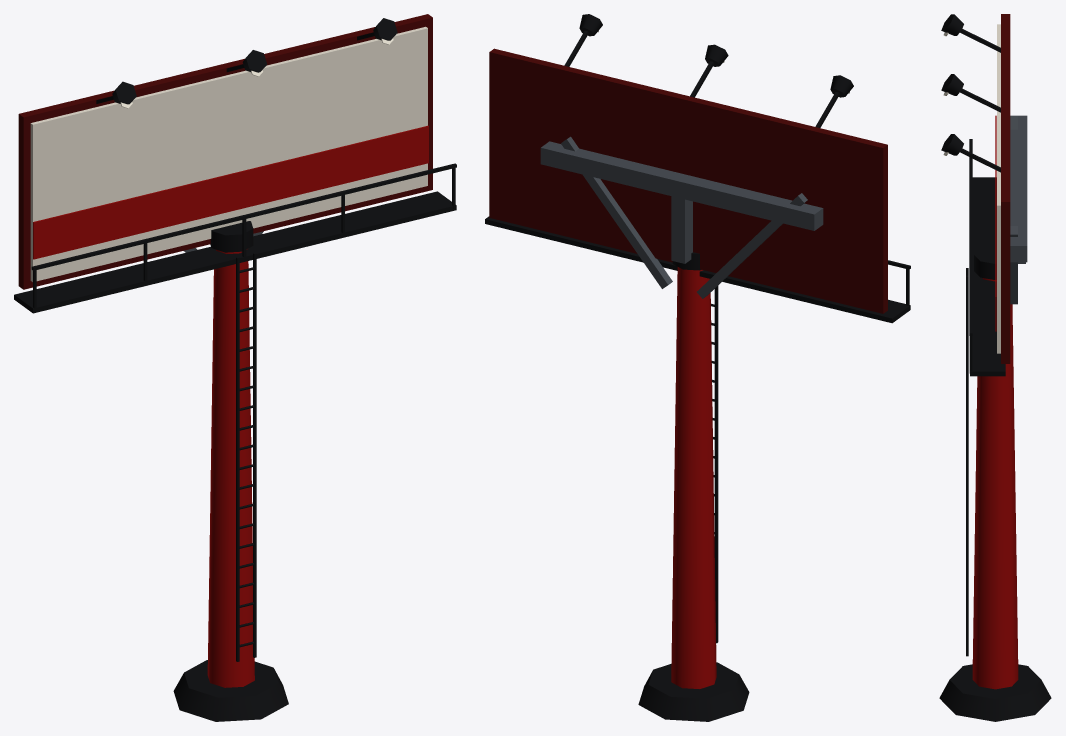
Rendered from billboard-tower.obj.
3 renders of one model, left to right at view 1: azimuth 30°, elevation 25°; view 2: azimuth 150°, elevation 25°; view 3: azimuth 270°, elevation 25°, orthographic. The views are drawn at different scales.
Visible parts, largest first — view 1: panel_face, pole, face_stripe, catwalk, panel_frame, footing, catwalk_rail, ladder_rail_l, ladder_rail_r, pole_collar; view 2: panel_frame, pole, support_beam, footing, catwalk, strut_r, ladder_rail_l, head_post, strut_l; view 3: pole, catwalk, footing, panel_frame, support_beam, panel_face, ladder_rail_r, catwalk_rail, pole_collar, strut_r, face_stripe, lamp_0 (+5 smaller).
Boxes of the visible parts, bbox=[...] form: panel_face: bbox=[30, 26, 427, 281]; pole: bbox=[207, 249, 254, 687]; face_stripe: bbox=[33, 125, 428, 259]; catwalk: bbox=[14, 191, 456, 313]; panel_frame: bbox=[18, 14, 432, 289]; footing: bbox=[173, 660, 288, 721]; catwalk_rail: bbox=[31, 163, 456, 270]; ladder_rail_l: bbox=[236, 257, 239, 661]; ladder_rail_r: bbox=[253, 252, 256, 657]; pole_collar: bbox=[210, 221, 253, 252]; panel_frame: bbox=[489, 48, 887, 313]; pole: bbox=[671, 267, 716, 688]; support_beam: bbox=[540, 141, 823, 230]; footing: bbox=[638, 662, 749, 721]; catwalk: bbox=[485, 216, 910, 323]; strut_r: bbox=[561, 136, 672, 288]; ladder_rail_l: bbox=[714, 285, 718, 643]; head_post: bbox=[671, 196, 692, 263]; strut_l: bbox=[697, 193, 807, 298]; pole: bbox=[972, 278, 1018, 689]; catwalk: bbox=[970, 177, 1005, 376]; footing: bbox=[939, 664, 1051, 721]; panel_frame: bbox=[1001, 14, 1010, 363]; support_beam: bbox=[1010, 115, 1027, 262]; panel_face: bbox=[997, 24, 1000, 353]; ladder_rail_r: bbox=[966, 275, 968, 656]; catwalk_rail: bbox=[969, 139, 972, 335]; pole_collar: bbox=[974, 246, 996, 279]; strut_r: bbox=[1010, 226, 1017, 304]; face_stripe: bbox=[995, 115, 996, 331]; lamp_0: bbox=[941, 14, 963, 35].
Bounding box in the file's own units: 9 × 13.48 × 2.2.
